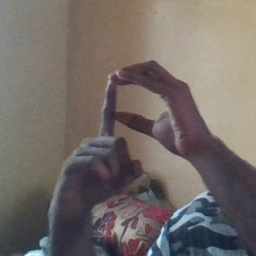P: (62, 57, 196, 196)
